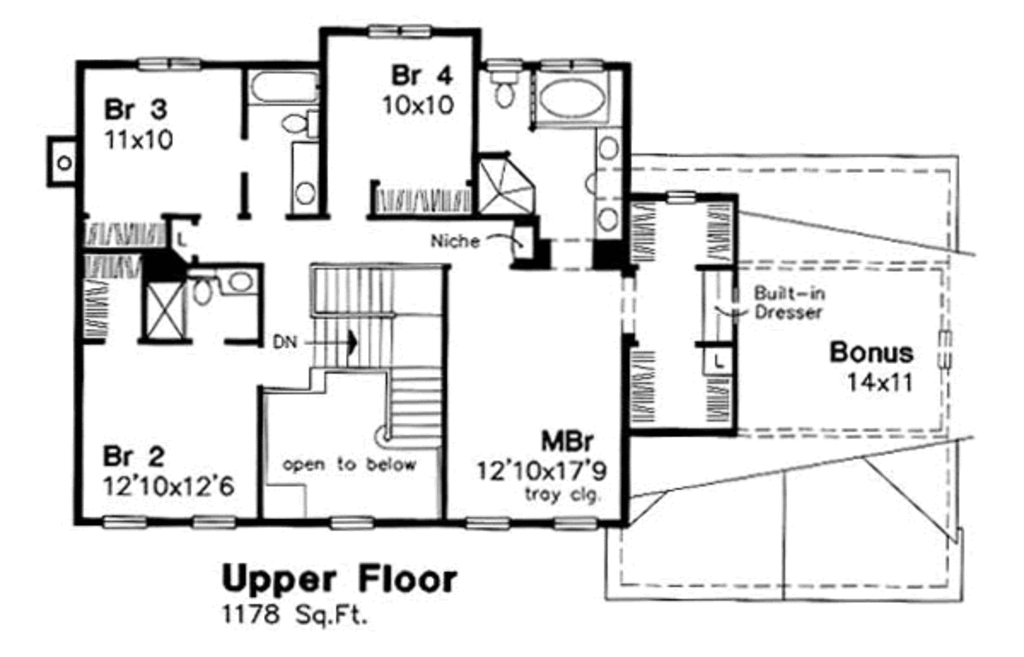large_sink: (274, 109, 323, 144), (489, 66, 523, 109), (189, 265, 221, 307)
small_sink: (593, 129, 625, 237), (292, 143, 319, 217)
stairs: (305, 266, 449, 451)
tub: (536, 71, 610, 130), (246, 66, 325, 108)
windows: (359, 17, 443, 47), (127, 52, 200, 75), (452, 510, 516, 535), (190, 508, 242, 533), (548, 513, 600, 537), (95, 514, 148, 533), (323, 513, 373, 530)
